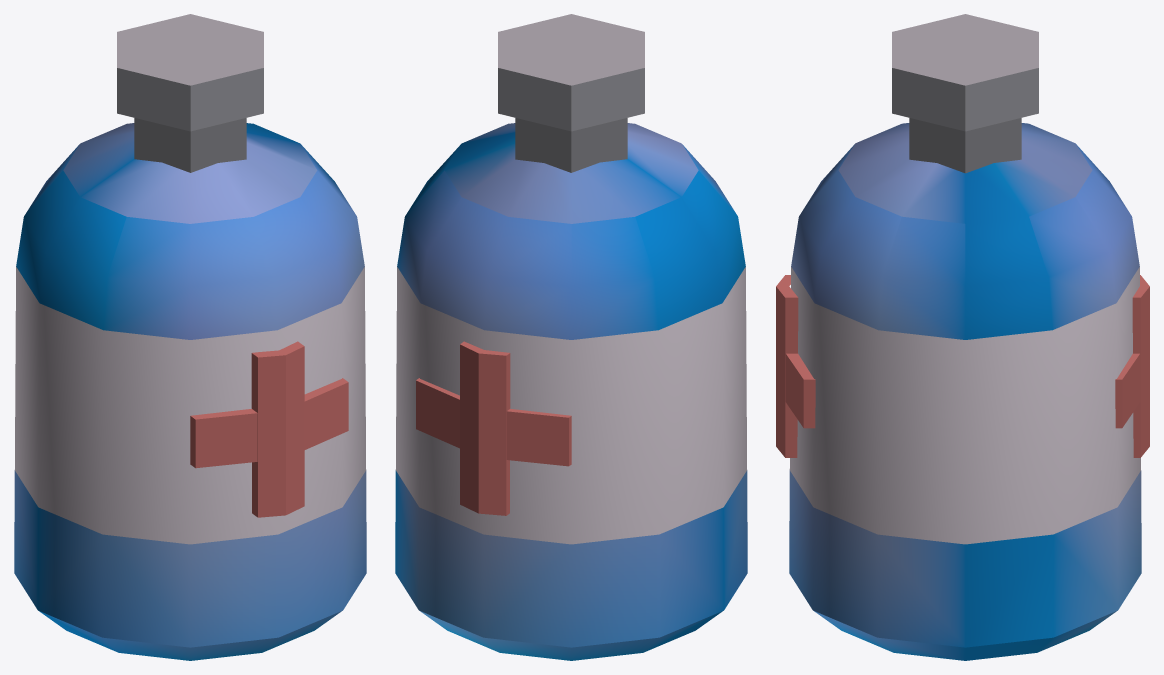
The model's file is colect_aidbottle.glb.
The picture shows the model from 3 angles, left to right: view 1: azimuth 30°, elevation 25°; view 2: azimuth 150°, elevation 25°; view 3: azimuth 270°, elevation 25°; orthographic projection.
Parts seen in each view (by area): view 1: colect_aidbottle; view 2: colect_aidbottle; view 3: colect_aidbottle.
Boxes of the visible parts, <box> form: colect_aidbottle: <box>14,14,366,660</box>; colect_aidbottle: <box>395,14,747,660</box>; colect_aidbottle: <box>776,14,1149,660</box>.
Size of the model in its own units: 0.1536 by 0.2646 by 0.1629.
